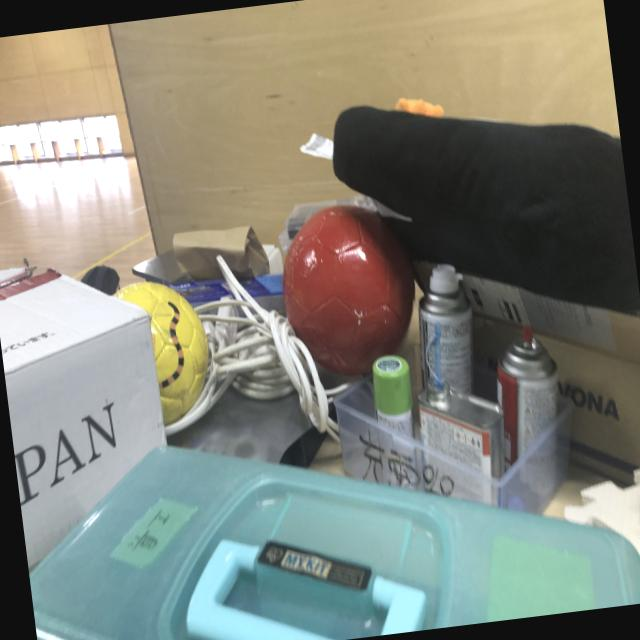red_ball: (276, 197, 422, 370)
